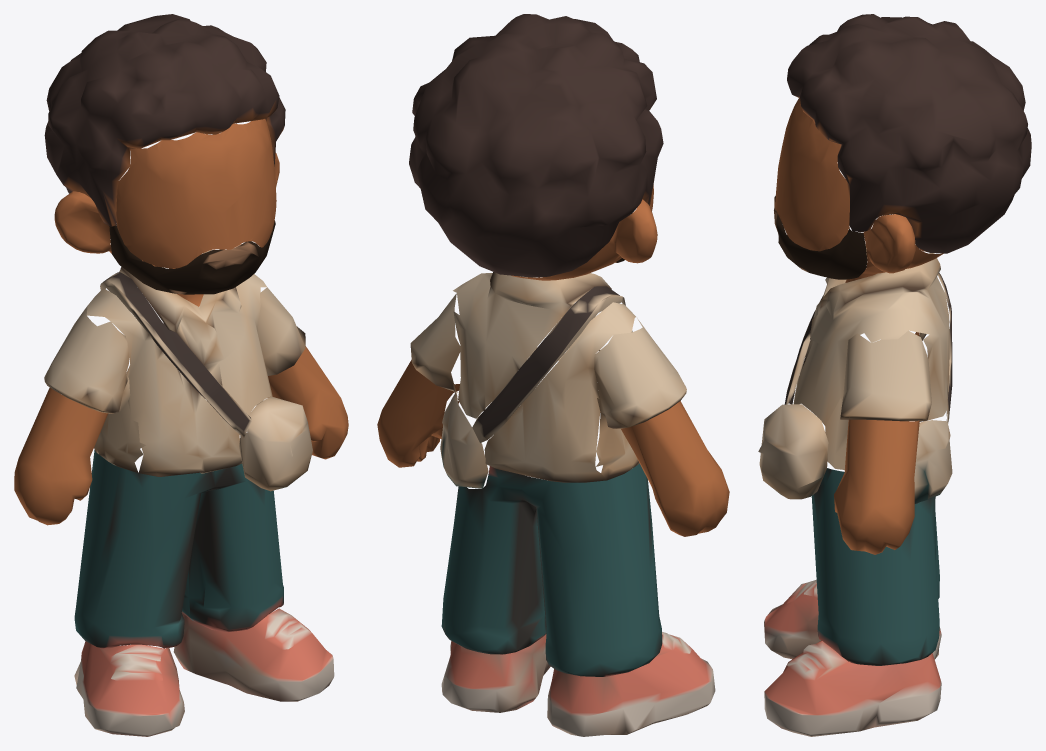
3 renders of one model, left to right at view 1: azimuth 30°, elevation 25°; view 2: azimuth 150°, elevation 25°; view 3: azimuth 270°, elevation 25°, orthographic. The views are drawn at different scales.
Parts seen in each view (by area): view 1: bottom, hair, top, head, shoe_l, shoe_r, hand_r, sleeve_r, sleeve_l, acc_head_beard, hand_l; view 2: hair, bottom, top, shoe_r, hand_r, sleeve_r, shoe_l, sleeve_l, hand_l, head; view 3: hair, bottom, sleeve_l, top, shoe_l, head, hand_l, shoe_r, acc_head_beard.
Part boxes in pixels (x1,y1,x2,y2): bottom: (74, 450, 283, 648); hair: (44, 14, 285, 226); top: (86, 250, 272, 476); head: (54, 119, 279, 306); shoe_l: (173, 608, 334, 701); shoe_r: (74, 641, 184, 736); hand_r: (14, 387, 108, 525); sleeve_r: (44, 306, 145, 472); sleeve_l: (239, 287, 312, 491); acc_head_beard: (109, 220, 275, 294); hand_l: (268, 346, 348, 459); hair: (409, 14, 663, 277); bottom: (441, 463, 662, 676); top: (453, 272, 635, 482); shoe_r: (547, 632, 715, 736); hand_r: (621, 401, 729, 536); sleeve_r: (594, 318, 686, 480); shoe_l: (441, 634, 550, 712); sleeve_l: (410, 293, 564, 488); hand_l: (377, 360, 459, 467); head: (511, 185, 657, 280); hair: (787, 14, 1031, 253); bottom: (811, 468, 939, 665); sleeve_l: (758, 330, 952, 503); top: (784, 248, 952, 425); shoe_l: (764, 640, 941, 736); head: (775, 98, 943, 282); hand_l: (834, 419, 919, 554); shoe_r: (764, 579, 941, 661); acc_head_beard: (774, 196, 867, 279).
Size of the model in its own units: 0.5413 by 1.03 by 0.3905.
